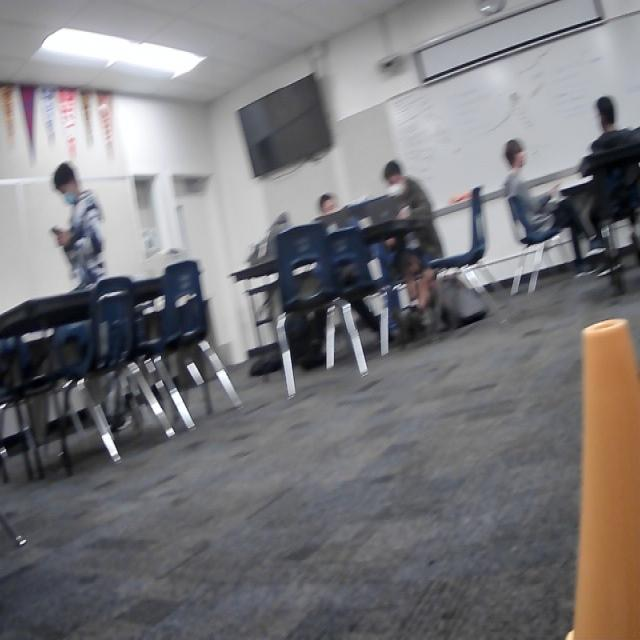cone: (567, 313, 640, 640)
